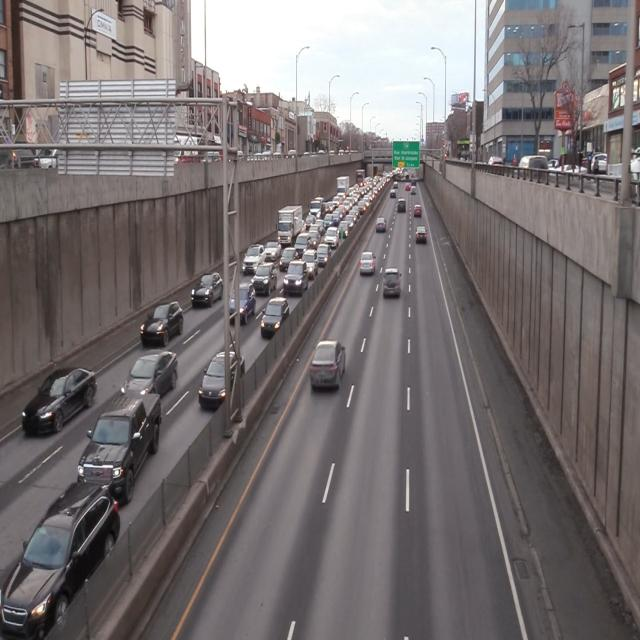Car: (1, 481, 120, 636), (78, 394, 162, 496), (21, 367, 97, 427), (119, 349, 182, 396), (199, 350, 246, 408), (141, 299, 183, 348), (310, 339, 347, 393), (226, 282, 254, 328), (191, 272, 223, 308), (261, 298, 289, 338), (278, 205, 302, 247), (252, 264, 277, 298), (283, 262, 308, 296), (242, 245, 266, 273), (382, 268, 403, 300), (279, 247, 299, 271), (302, 249, 318, 276), (359, 251, 375, 277), (265, 240, 280, 261), (416, 226, 427, 243), (376, 216, 386, 234)
